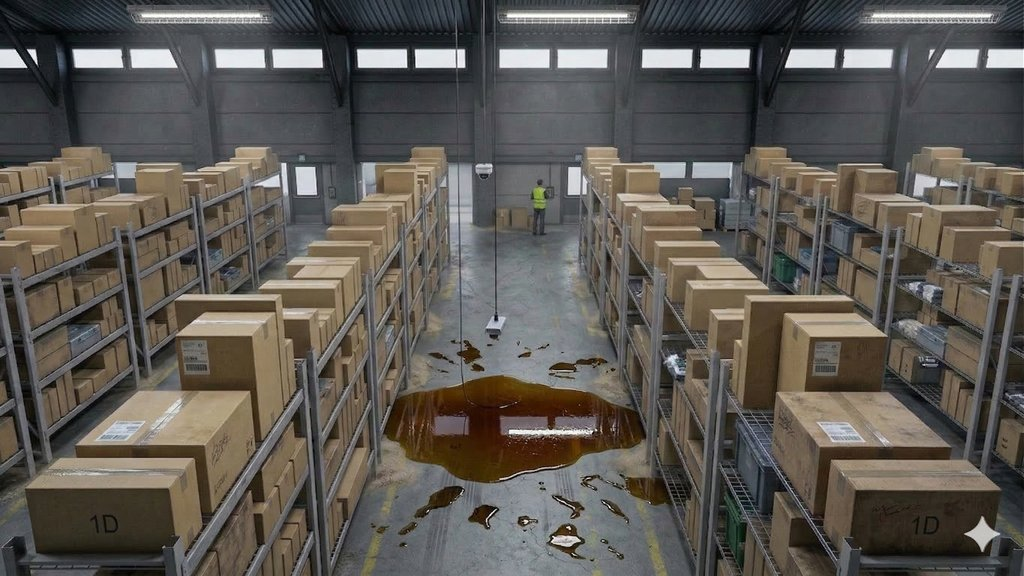person: (517, 174, 563, 245)
safety_vest: (523, 188, 558, 217)
spill: (389, 319, 642, 569)
